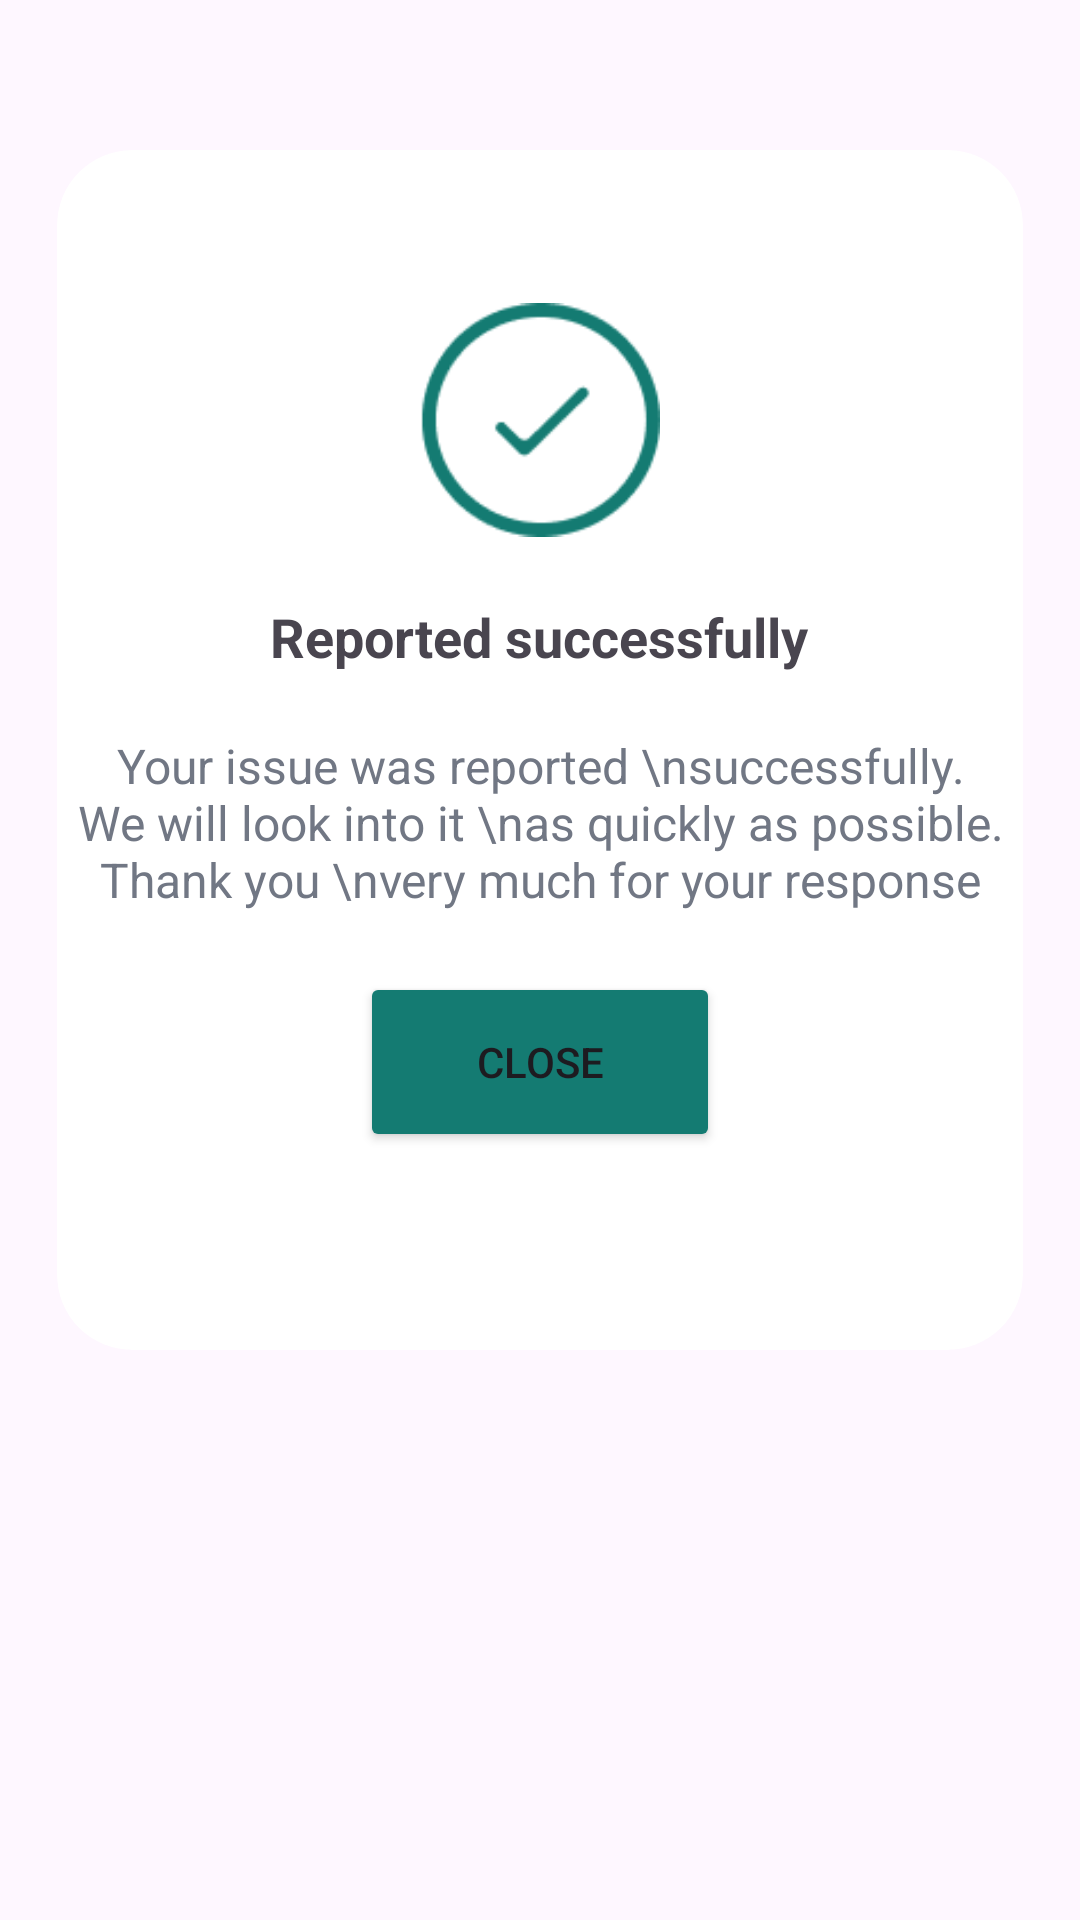

Icons on this 1080px x 1920px Android screen, each with its box as (left=x1, top=y1, right=x2, bottom=y2):
right tick: (left=421, top=303, right=660, bottom=537)
